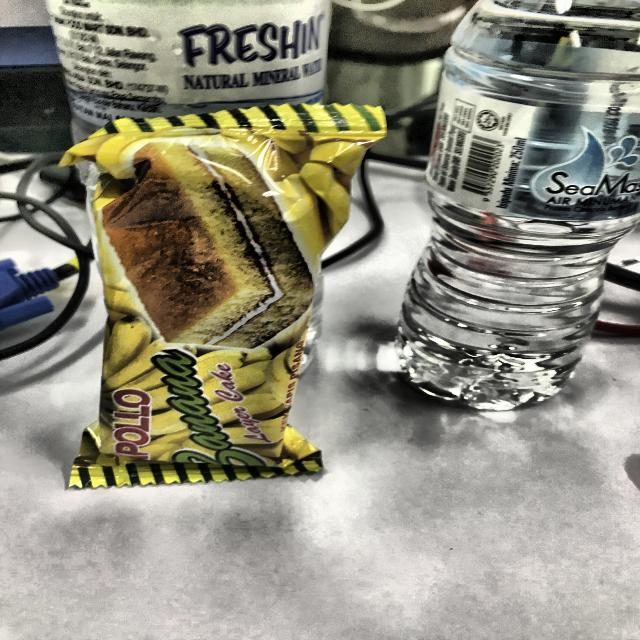Plastic: (92, 111, 337, 478)
